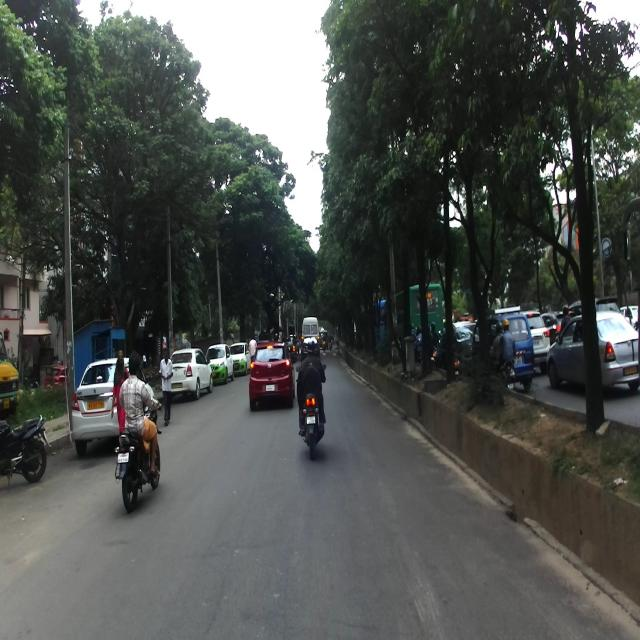Car_Hyundai: (248, 341, 294, 413)
Car_Maruti-Suzuki: (71, 350, 155, 458)
Car_Toyota: (546, 311, 639, 394)
motorcycle: (295, 362, 326, 462)
motorcycle_bajaj: (114, 395, 163, 513), (0, 412, 53, 485)
